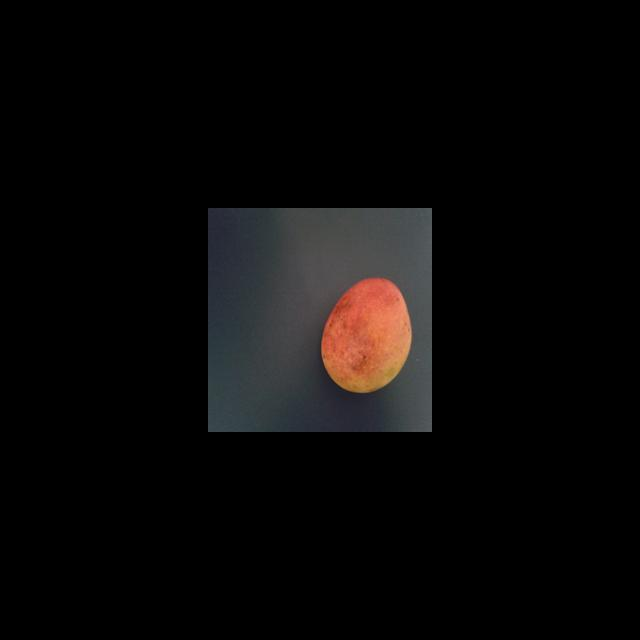Mango: (320, 276, 412, 393)
